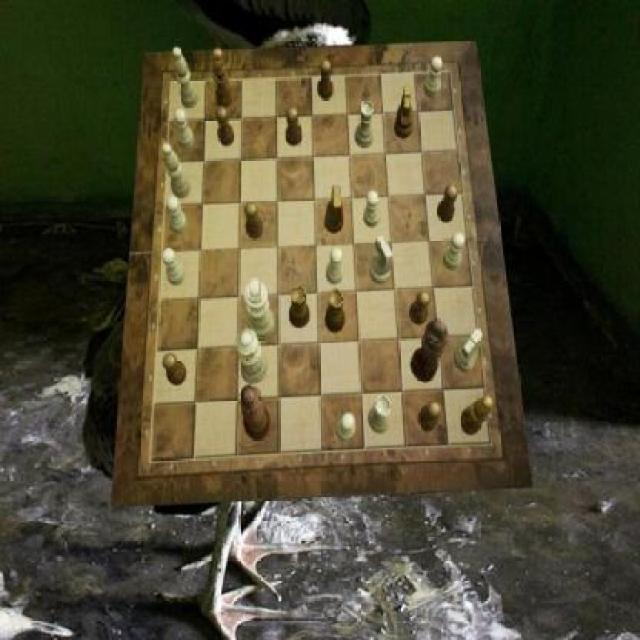bishop: (460, 397, 493, 437), (213, 49, 234, 109)
black-bishop: (411, 318, 448, 382)
black-king: (394, 84, 413, 138), (324, 187, 344, 236)
black-knight: (163, 354, 187, 388), (437, 185, 458, 223), (409, 291, 432, 325), (418, 400, 442, 432), (244, 202, 264, 239), (216, 106, 234, 146), (286, 106, 303, 146), (317, 60, 333, 102)
black-pawn: (240, 384, 272, 440)
black-queen: (289, 285, 310, 327), (326, 289, 346, 333)
black-rook: (162, 143, 190, 199), (174, 46, 198, 109)
white-bishop: (245, 277, 277, 339)
white-king: (454, 329, 481, 373), (371, 236, 394, 284)
white-knight: (162, 248, 186, 285), (443, 232, 465, 271), (174, 108, 194, 149), (168, 195, 188, 234), (425, 57, 442, 98), (326, 246, 343, 284), (363, 189, 380, 227), (337, 414, 357, 441)
white-pawn: (237, 329, 269, 384)
white-queen: (354, 100, 374, 148), (368, 395, 390, 434)
